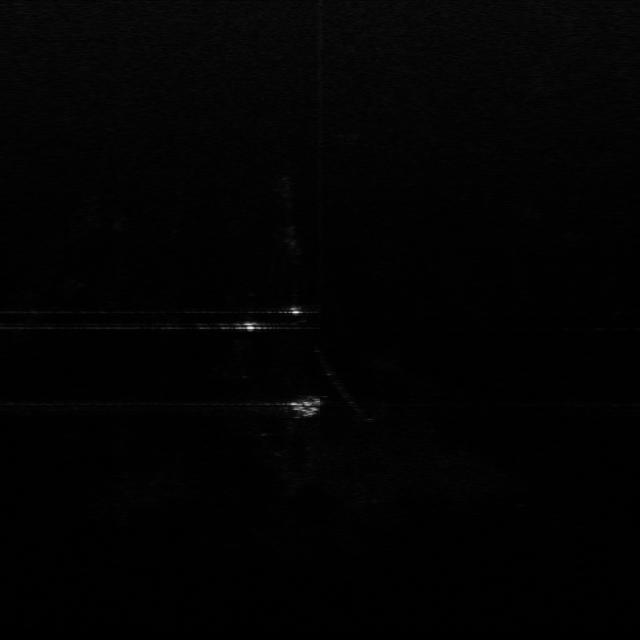rov: (288, 398, 327, 420)
